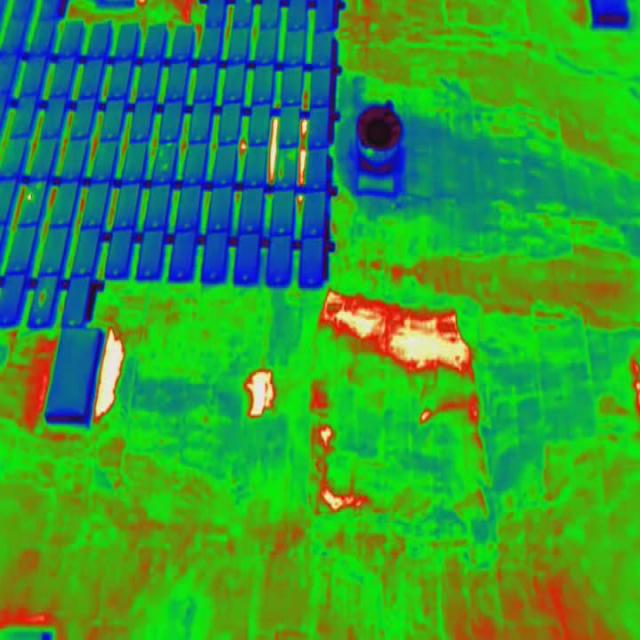Orange-Spots: (39, 290, 46, 305), (279, 162, 284, 180), (27, 192, 34, 201)
